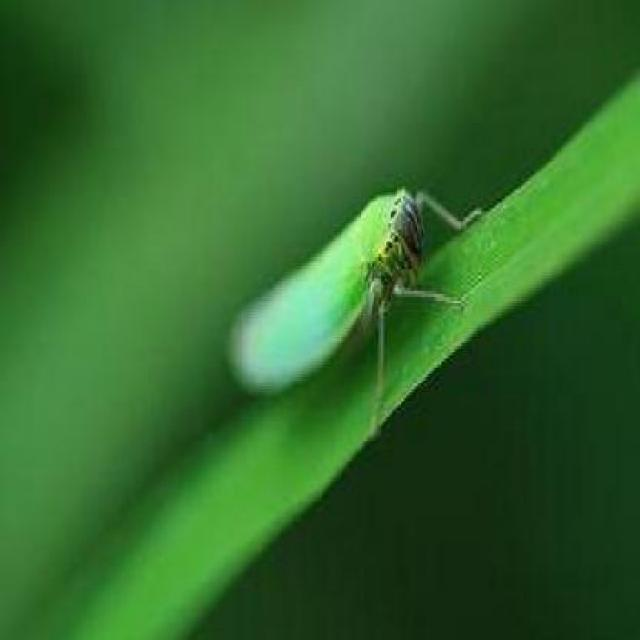green-leafhopper: (232, 183, 456, 419)
